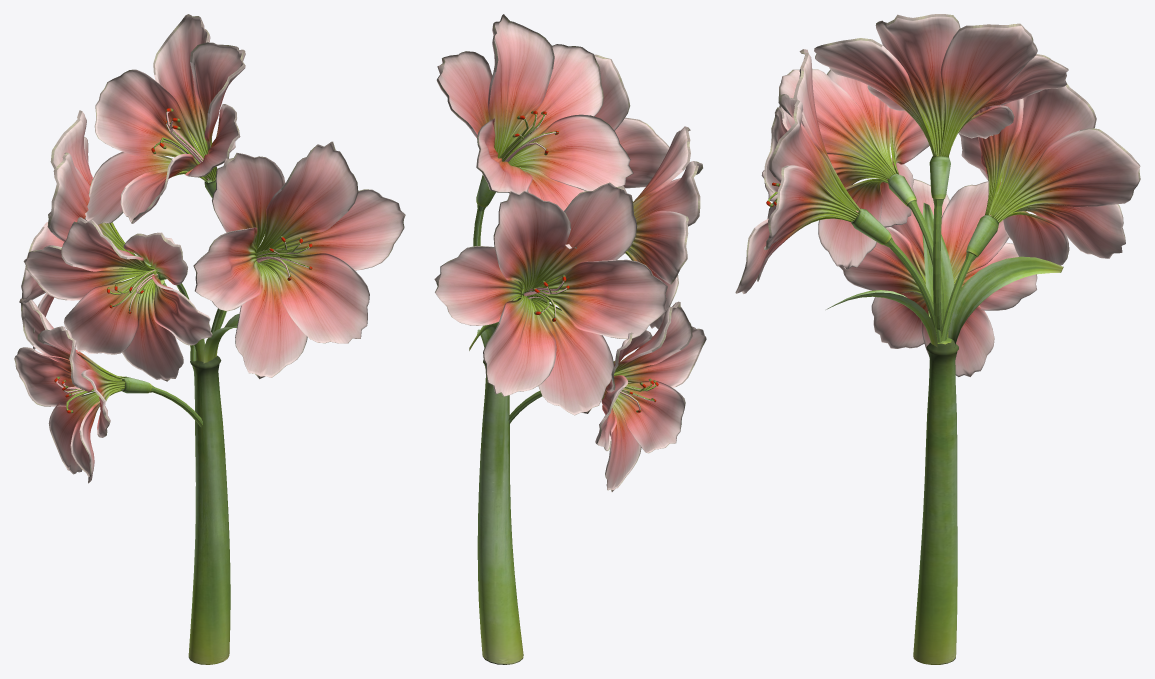
The model's file is amaryllis.glb.
The picture shows the model from 3 angles, left to right: view 1: azimuth 30°, elevation 25°; view 2: azimuth 150°, elevation 25°; view 3: azimuth 270°, elevation 25°; orthographic projection. The views are drawn at different scales.
Visible parts, largest first — view 1: MaterialFBXASC032FBXASC03513_ncl1_1, MaterialFBXASC032FBXASC03521; view 2: MaterialFBXASC032FBXASC03513_ncl1_1, MaterialFBXASC032FBXASC03521; view 3: MaterialFBXASC032FBXASC03513_ncl1_1, MaterialFBXASC032FBXASC03521.
Part boxes in pixels (left/top/right/bottom): MaterialFBXASC032FBXASC03513_ncl1_1: left=14, top=14, right=405, bottom=483; MaterialFBXASC032FBXASC03521: left=121, top=178, right=262, bottom=664; MaterialFBXASC032FBXASC03513_ncl1_1: left=434, top=14, right=706, bottom=491; MaterialFBXASC032FBXASC03521: left=469, top=175, right=550, bottom=664; MaterialFBXASC032FBXASC03513_ncl1_1: left=735, top=14, right=1140, bottom=376; MaterialFBXASC032FBXASC03521: left=826, top=156, right=1063, bottom=664.
Size of the model in its own units: 0.5137 by 1 by 0.5637.
Materials: 3 (3 with a texture image).
